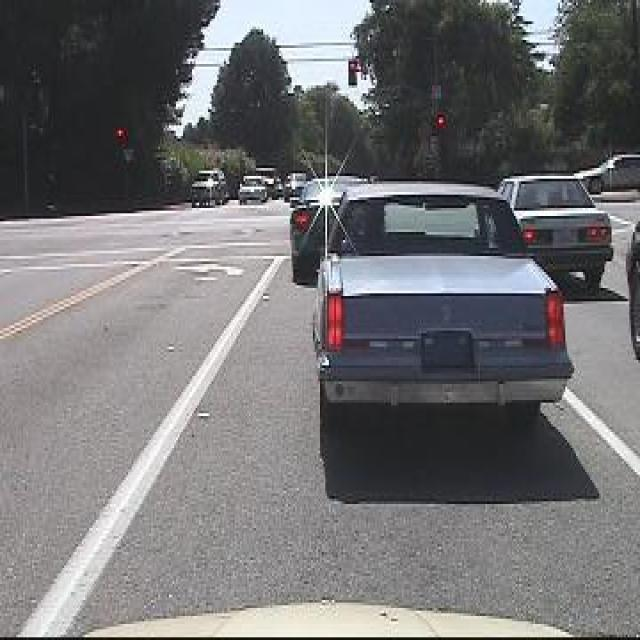car_back: (306, 174, 582, 458), (494, 158, 624, 281)
car_front: (182, 162, 226, 216), (232, 173, 274, 210)
